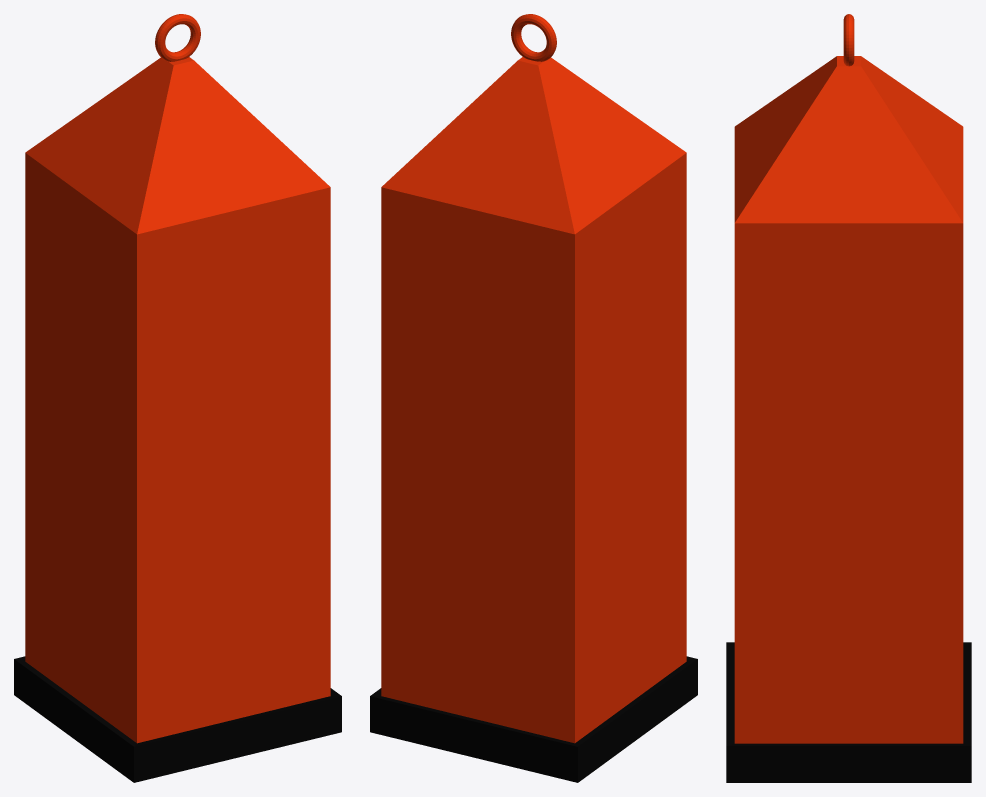
Rendered from FE_Body.fbx.
The picture shows the model from 3 angles, left to right: view 1: azimuth 30°, elevation 25°; view 2: azimuth 150°, elevation 25°; view 3: azimuth 270°, elevation 25°; orthographic projection. The views are drawn at different scales.
Parts seen in each view (by area): view 1: Body; view 2: Body; view 3: Body.
Boxes of the visible parts, x1=… form: Body: x1=14, y1=14, x2=341, y2=782; Body: x1=370, y1=14, x2=697, y2=782; Body: x1=726, y1=14, x2=971, y2=782.
Bounding box in the file's own units: 40.1 × 129 × 40.1.
